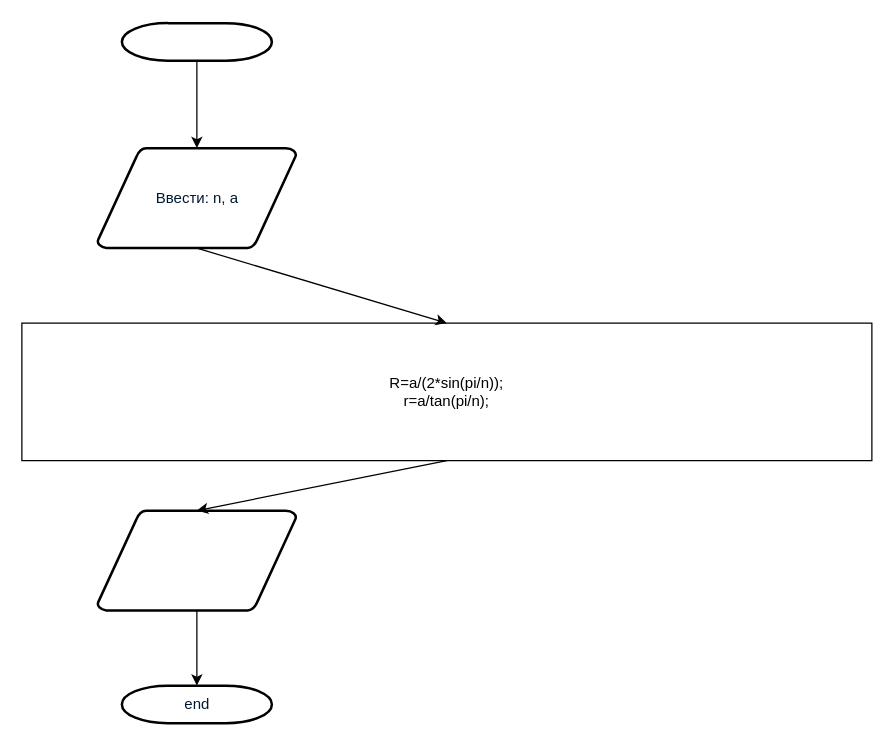
This 894x745 diagram has some shape labels left out. Each missing label, with the centre of its shape:
"start" belongs at (196,41).
"Вивести: R,r" belongs at (196,560).
